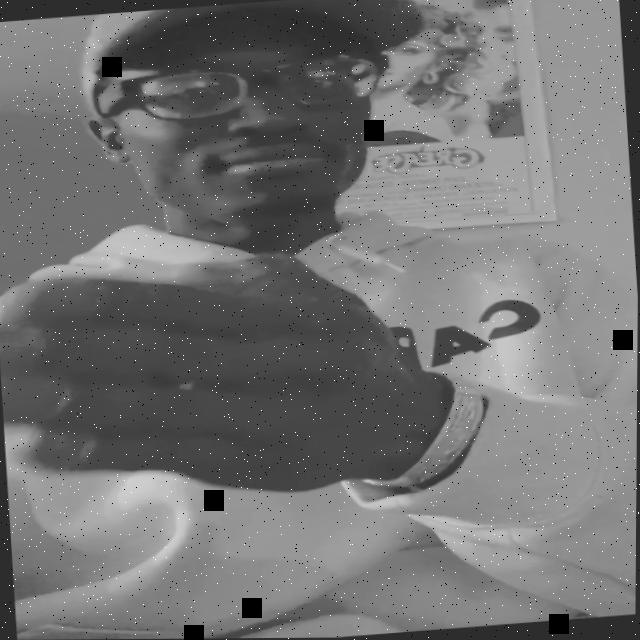Paper: (0, 233, 441, 518)
